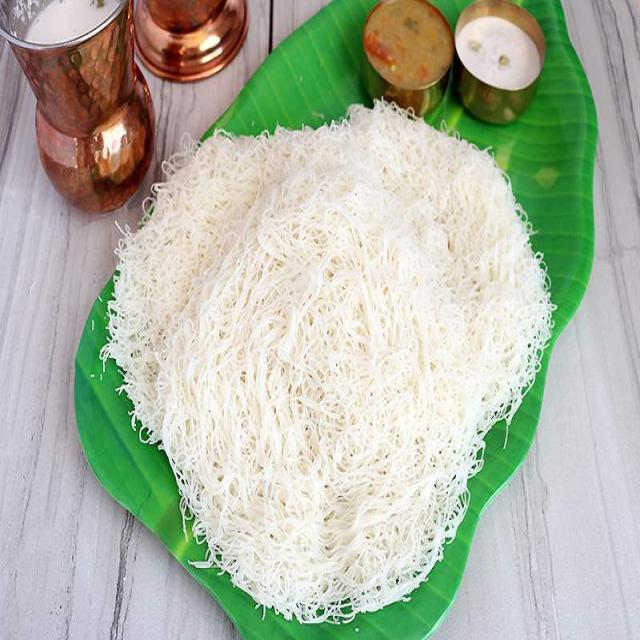IDIYAPPAM: (116, 113, 556, 617)
